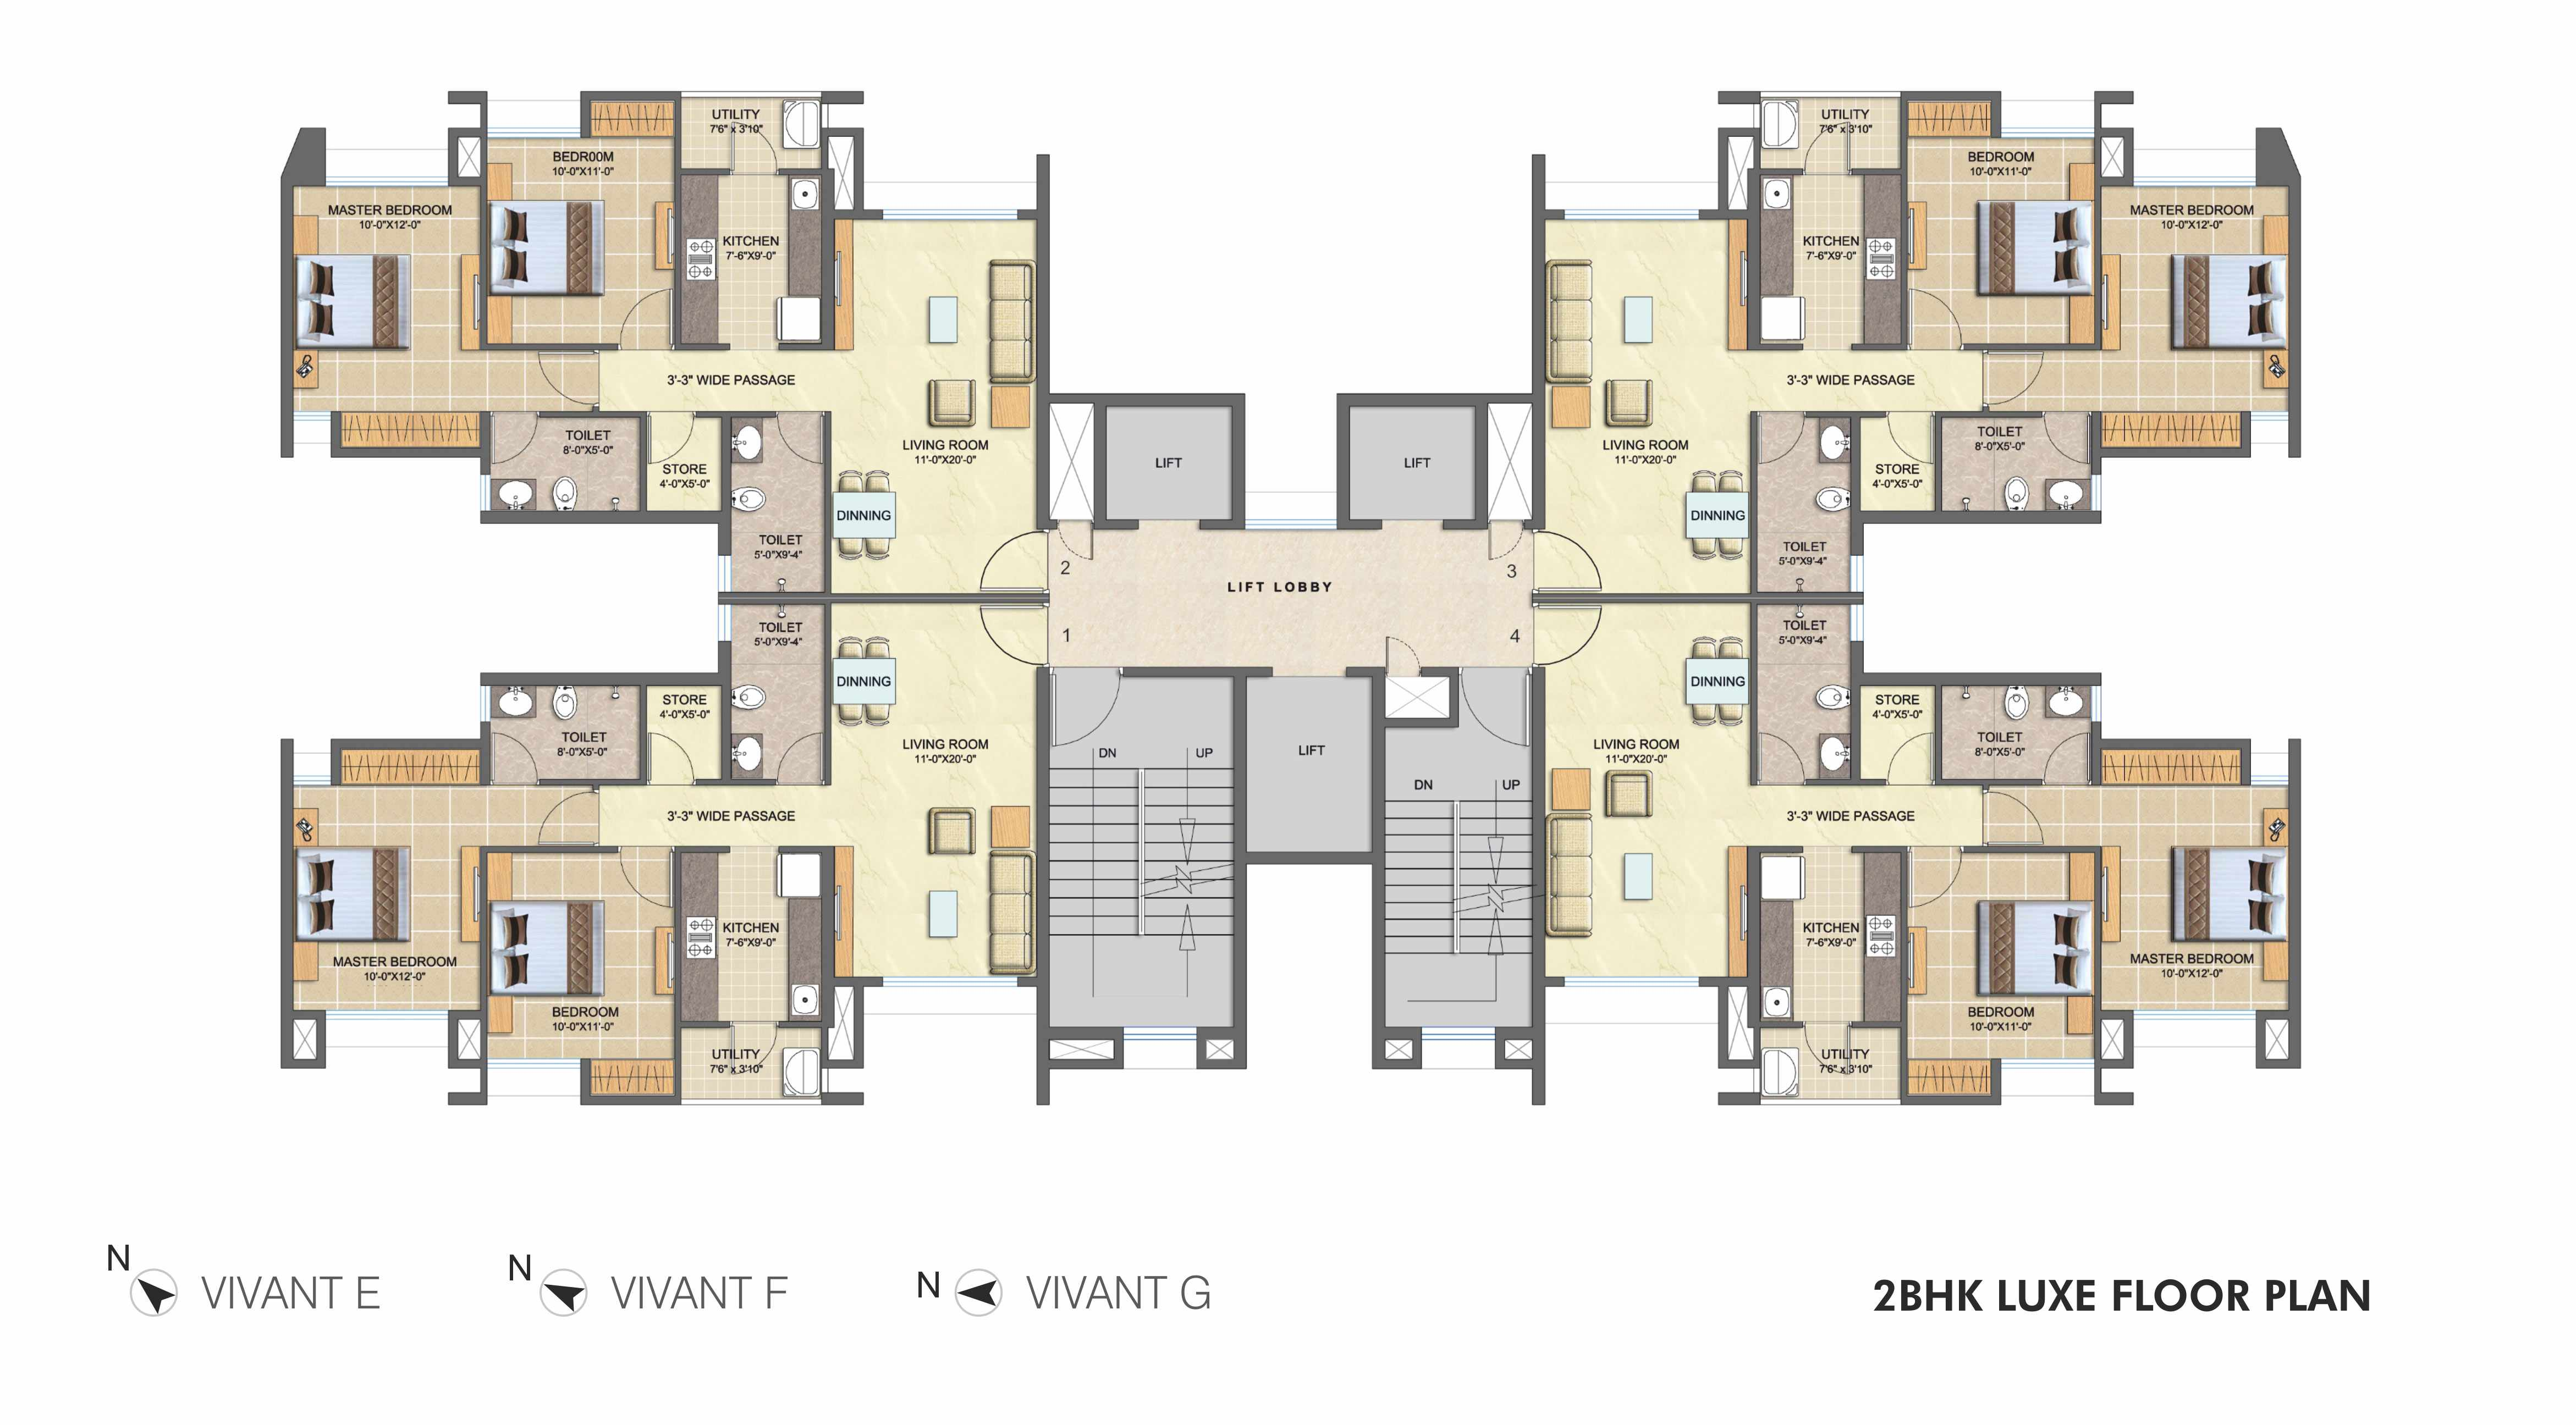window: (325, 147, 451, 188), (484, 98, 583, 139), (1121, 1025, 1200, 1071), (1420, 1027, 1499, 1072), (2130, 172, 2258, 191), (1562, 207, 1704, 223), (881, 207, 1021, 223), (323, 1007, 451, 1023), (2132, 1007, 2258, 1023), (881, 976, 1020, 990), (1562, 976, 1700, 990), (1999, 1055, 2097, 1072), (1999, 125, 2097, 142), (1244, 516, 1339, 533), (484, 1056, 583, 1072)
